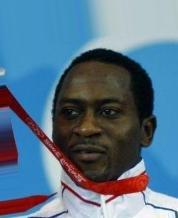face: (59, 97, 121, 163)
